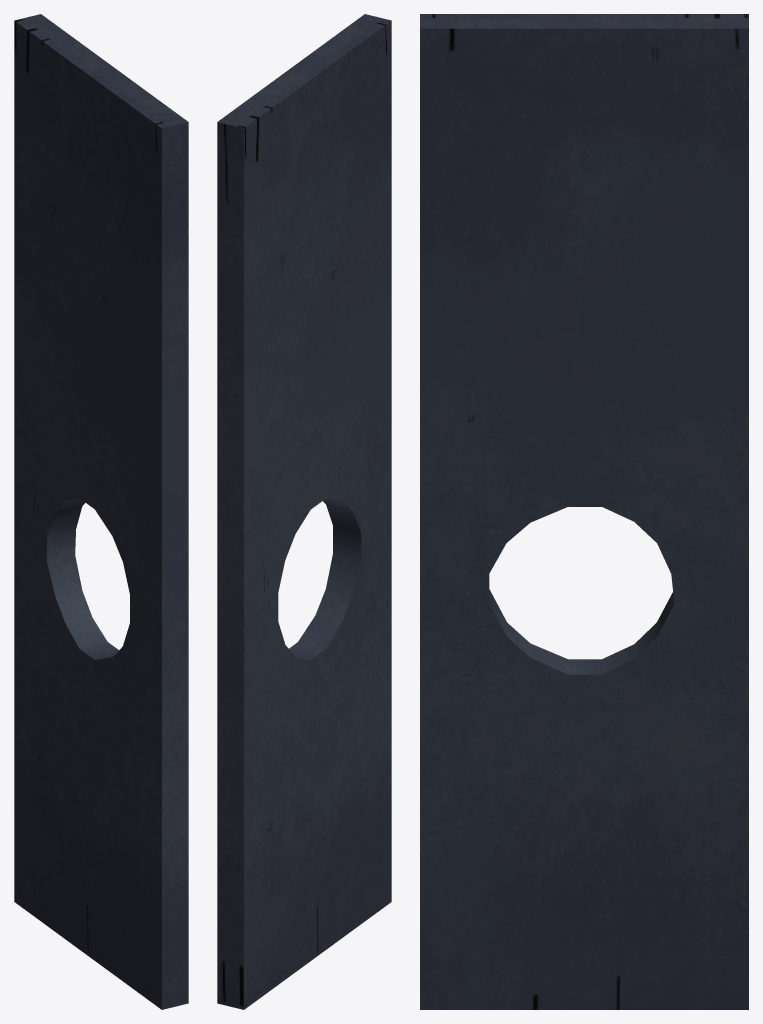
File: Msh_MurHublotModulaire.fbx
3 renders of one model, left to right at view 1: azimuth 30°, elevation 25°; view 2: azimuth 150°, elevation 25°; view 3: azimuth 270°, elevation 25°, orthographic. The views are drawn at different scales.
Parts seen in each view (by area): view 1: pCube184; view 2: pCube184; view 3: pCube184.
Part boxes in pixels (x1=…): pCube184: x1=14, y1=14, x2=188, y2=1009; pCube184: x1=217, y1=14, x2=391, y2=1009; pCube184: x1=420, y1=14, x2=748, y2=1009.
Bounding box in the file's own units: 1.1 × 9.97 × 32.85.
